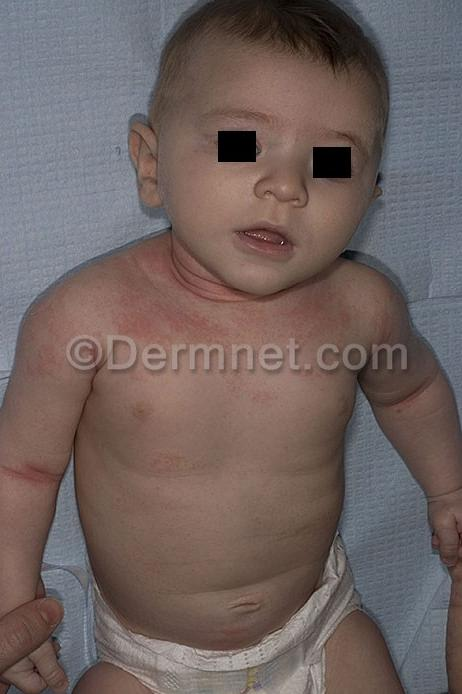eritema 1: (80, 225, 407, 367), (374, 374, 440, 416)
excoriacion 1: (375, 371, 440, 413), (0, 451, 62, 494)
excoriacion 2: (11, 231, 402, 408)
exudacion 2: (0, 459, 62, 490)
